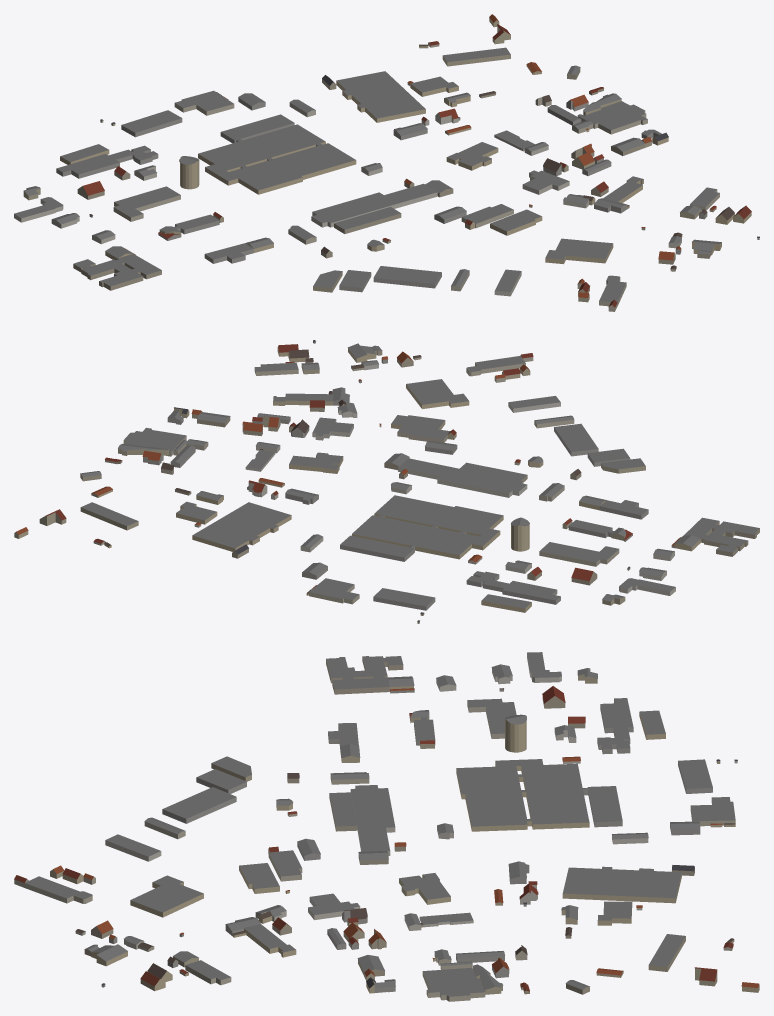
3 renders of one model, top to bottom at view 1: azimuth 30°, elevation 25°; view 2: azimuth 150°, elevation 25°; view 3: azimuth 270°, elevation 25°, orthographic. The views are drawn at different scales.
Visible parts, largest first — view 1: buildings; view 2: buildings; view 3: buildings.
Part boxes in pixels (box(x1,y1,x2,y2)): buildings: box(14, 14, 759, 311); buildings: box(14, 340, 759, 623); buildings: box(14, 652, 759, 1001).
Bounding box in the file's own units: 849 × 61.03 × 805.
